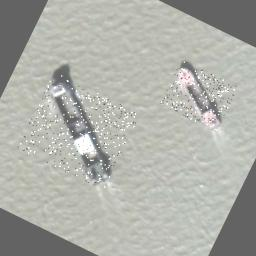boat: (16, 72, 140, 190), (160, 60, 238, 132)
